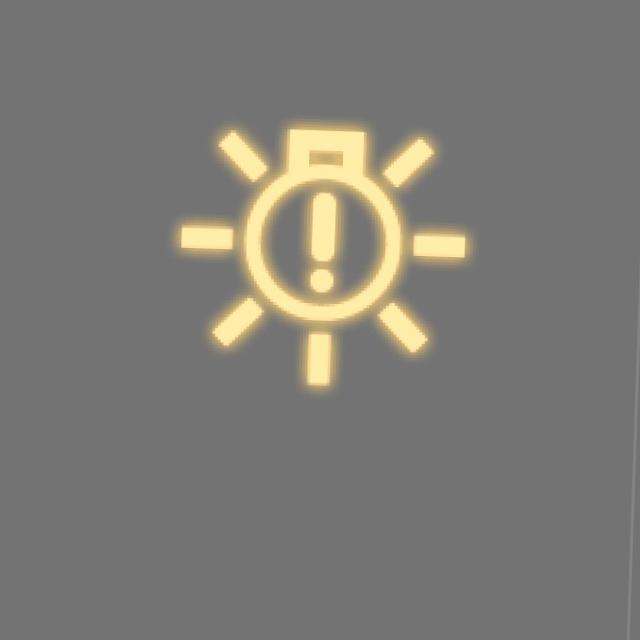kontrolka: (114, 71, 518, 428)
